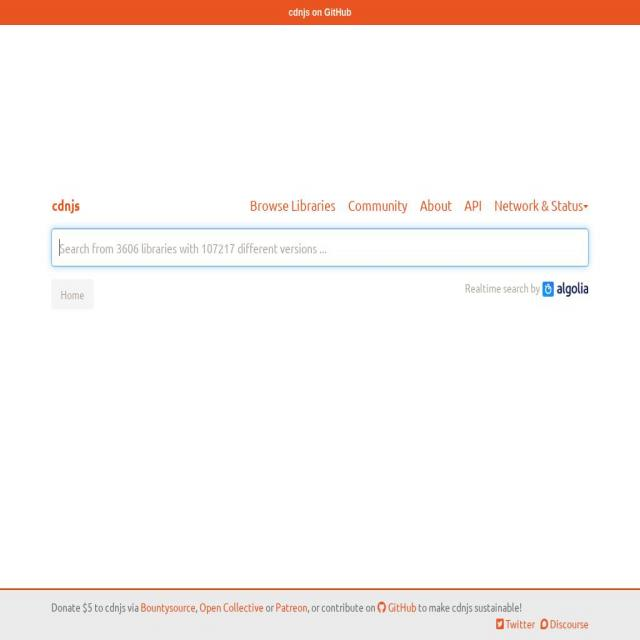follow-options: (485, 612, 596, 633)
navigation-links: (247, 193, 594, 217)
search: (46, 225, 596, 277)
